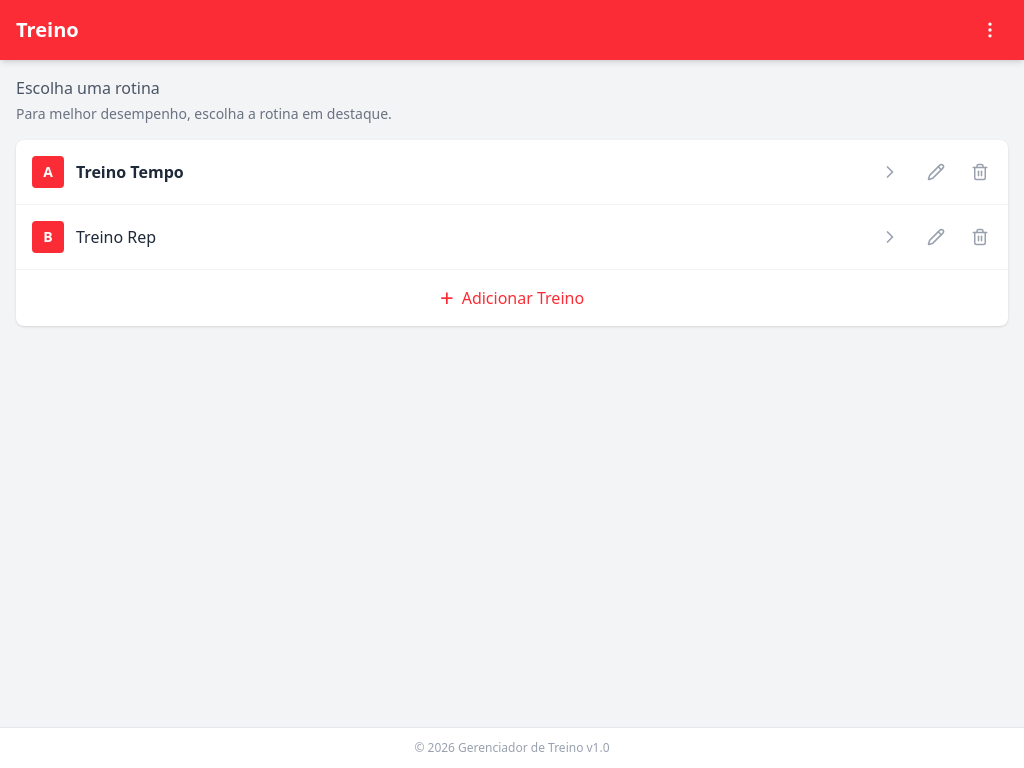
it: App - Edit workout › opens edit form when clicking edit button
This screenshot has width=1024, height=768.
Click the 1st button titled "Editar" at [936, 172], box x1=916 y1=152 x2=956 y2=192
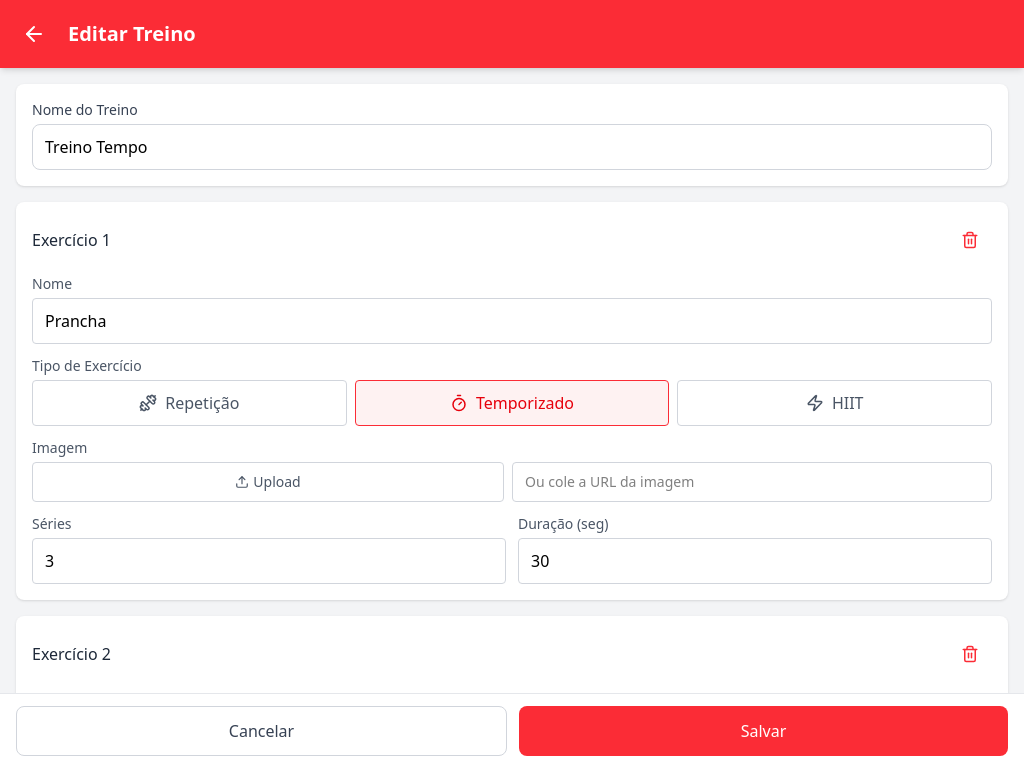
Now the heading "Editar Treino" is shown, box x1=68 y1=20 x2=196 y2=48
